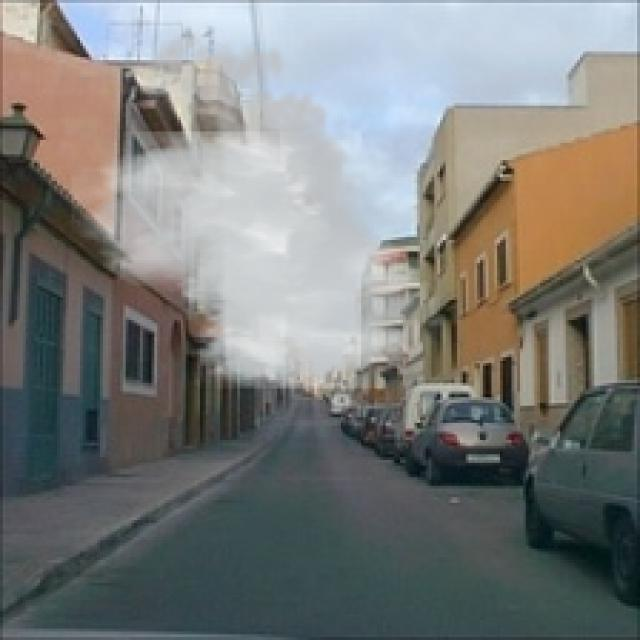Smoke: (71, 22, 440, 388)
